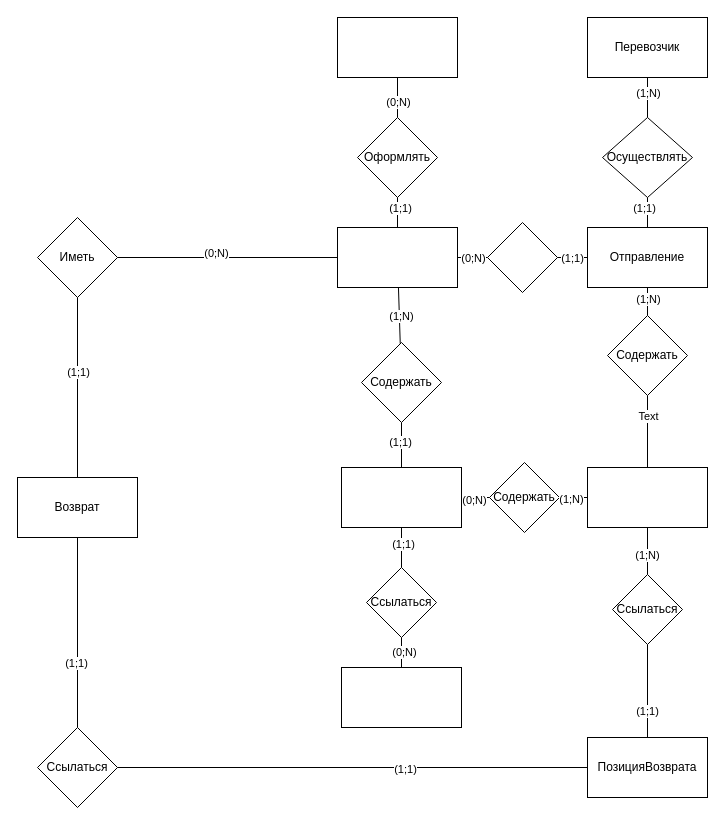
This 725x825 diagram has some shape labels left out. The shapes that lost their labels are listed below. From the top down, each one's centre as x and y in pixels, then its label:
At point 397,47: "Покупатель".
At point 397,257: "Заказ".
At point 522,257: "Включать".
At point 401,497: "ПозицияЗаказа".
At point 647,497: "СоставОтправления".
At point 401,697: "Товар".
